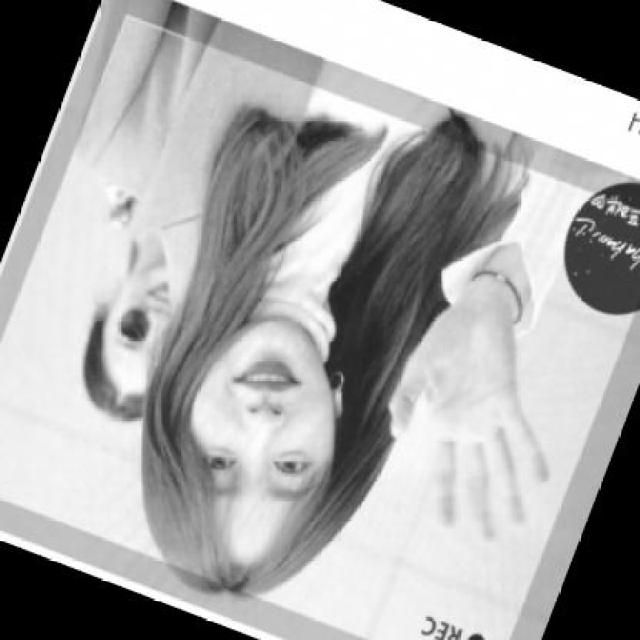earphone: (316, 350, 369, 450)
